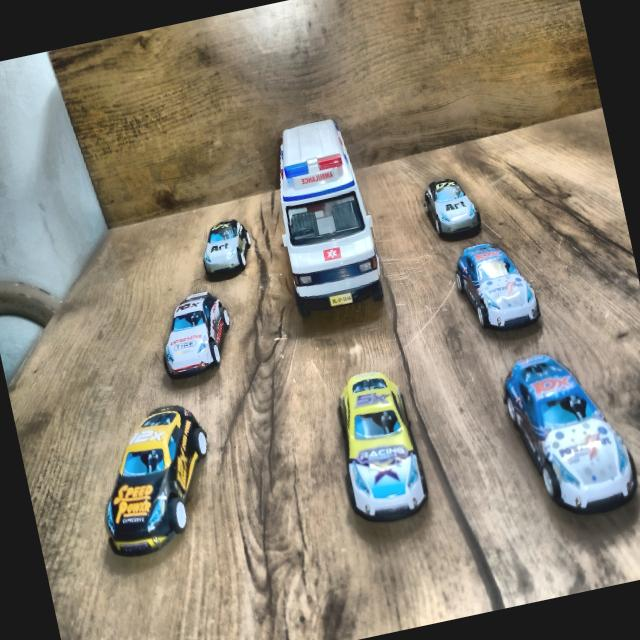Ambulance: (260, 115, 388, 318)
Car: (496, 341, 640, 526), (84, 400, 227, 560), (324, 366, 432, 528), (450, 235, 542, 338), (151, 288, 238, 380), (419, 173, 482, 240), (196, 217, 256, 280)
